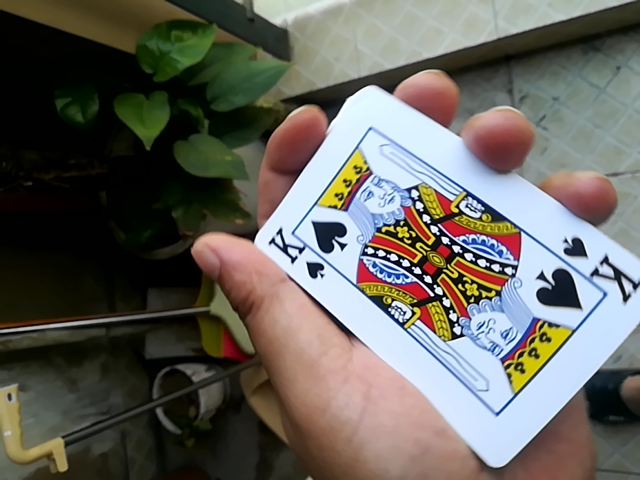ht k: (226, 74, 631, 462)
